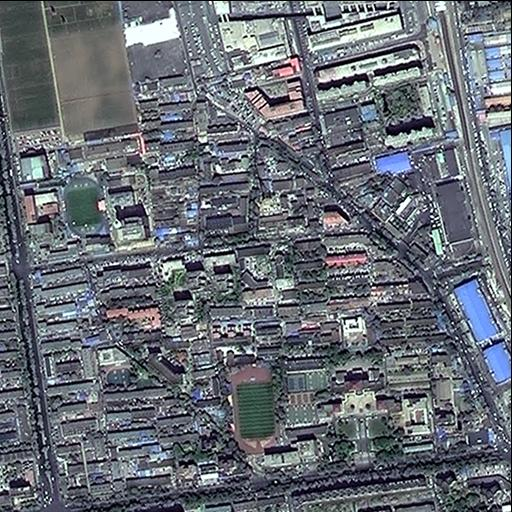school: (12, 173, 115, 264), (89, 341, 162, 390)
